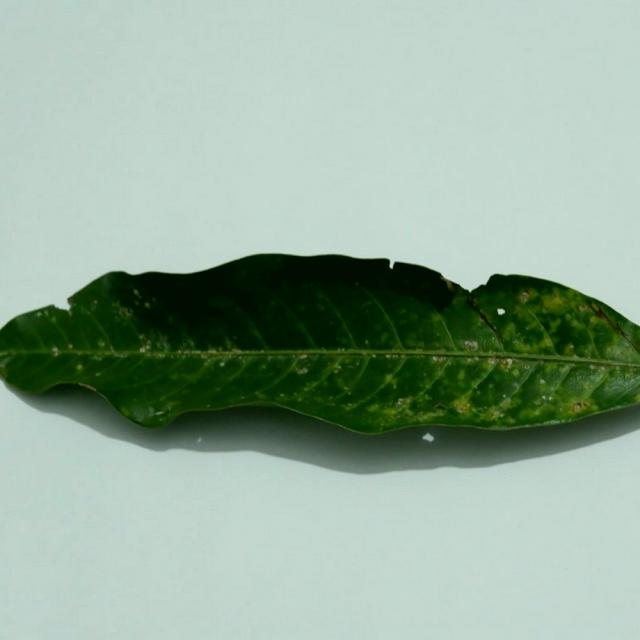Mango: (0, 255, 639, 433)
Powdery_Mildew: (147, 329, 180, 351), (493, 389, 522, 412), (375, 405, 408, 422), (460, 333, 480, 356), (199, 344, 231, 354), (117, 304, 135, 321), (619, 366, 639, 381), (501, 323, 516, 342), (587, 301, 604, 317), (536, 418, 567, 426), (440, 276, 455, 292), (571, 401, 589, 413), (467, 293, 480, 308), (0, 360, 10, 375), (66, 294, 77, 307), (455, 369, 465, 383), (499, 358, 514, 367), (81, 384, 96, 393), (141, 340, 153, 351), (456, 403, 469, 413), (255, 390, 268, 400), (434, 402, 448, 411), (388, 260, 397, 274), (119, 406, 130, 417), (422, 432, 434, 442), (519, 291, 529, 302), (379, 333, 389, 344), (535, 355, 547, 364), (433, 355, 445, 362), (496, 307, 506, 315), (155, 409, 166, 416), (385, 353, 397, 359), (487, 357, 496, 365), (566, 343, 574, 352), (51, 347, 59, 356), (41, 310, 50, 318), (578, 304, 587, 312), (297, 367, 307, 374), (133, 289, 141, 297), (397, 397, 405, 404), (535, 398, 543, 405), (76, 363, 83, 371), (98, 340, 105, 348), (391, 381, 397, 390), (144, 302, 151, 309), (318, 305, 325, 312), (299, 354, 307, 360), (295, 395, 303, 401), (220, 360, 227, 366), (598, 365, 605, 371), (92, 299, 98, 306), (337, 347, 345, 352), (149, 407, 155, 413), (498, 411, 504, 417), (336, 365, 342, 371), (524, 364, 530, 370), (590, 364, 596, 370), (36, 311, 42, 317), (232, 335, 238, 341), (196, 437, 202, 443), (67, 344, 73, 349), (539, 379, 545, 384), (425, 395, 431, 400), (364, 339, 369, 345), (346, 402, 352, 407), (502, 393, 507, 398), (355, 281, 360, 286), (347, 390, 352, 395), (371, 354, 377, 358), (280, 393, 285, 397), (206, 403, 211, 407)
